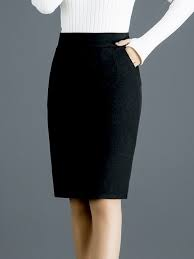F_tailored skirt: (39, 32, 145, 207)
